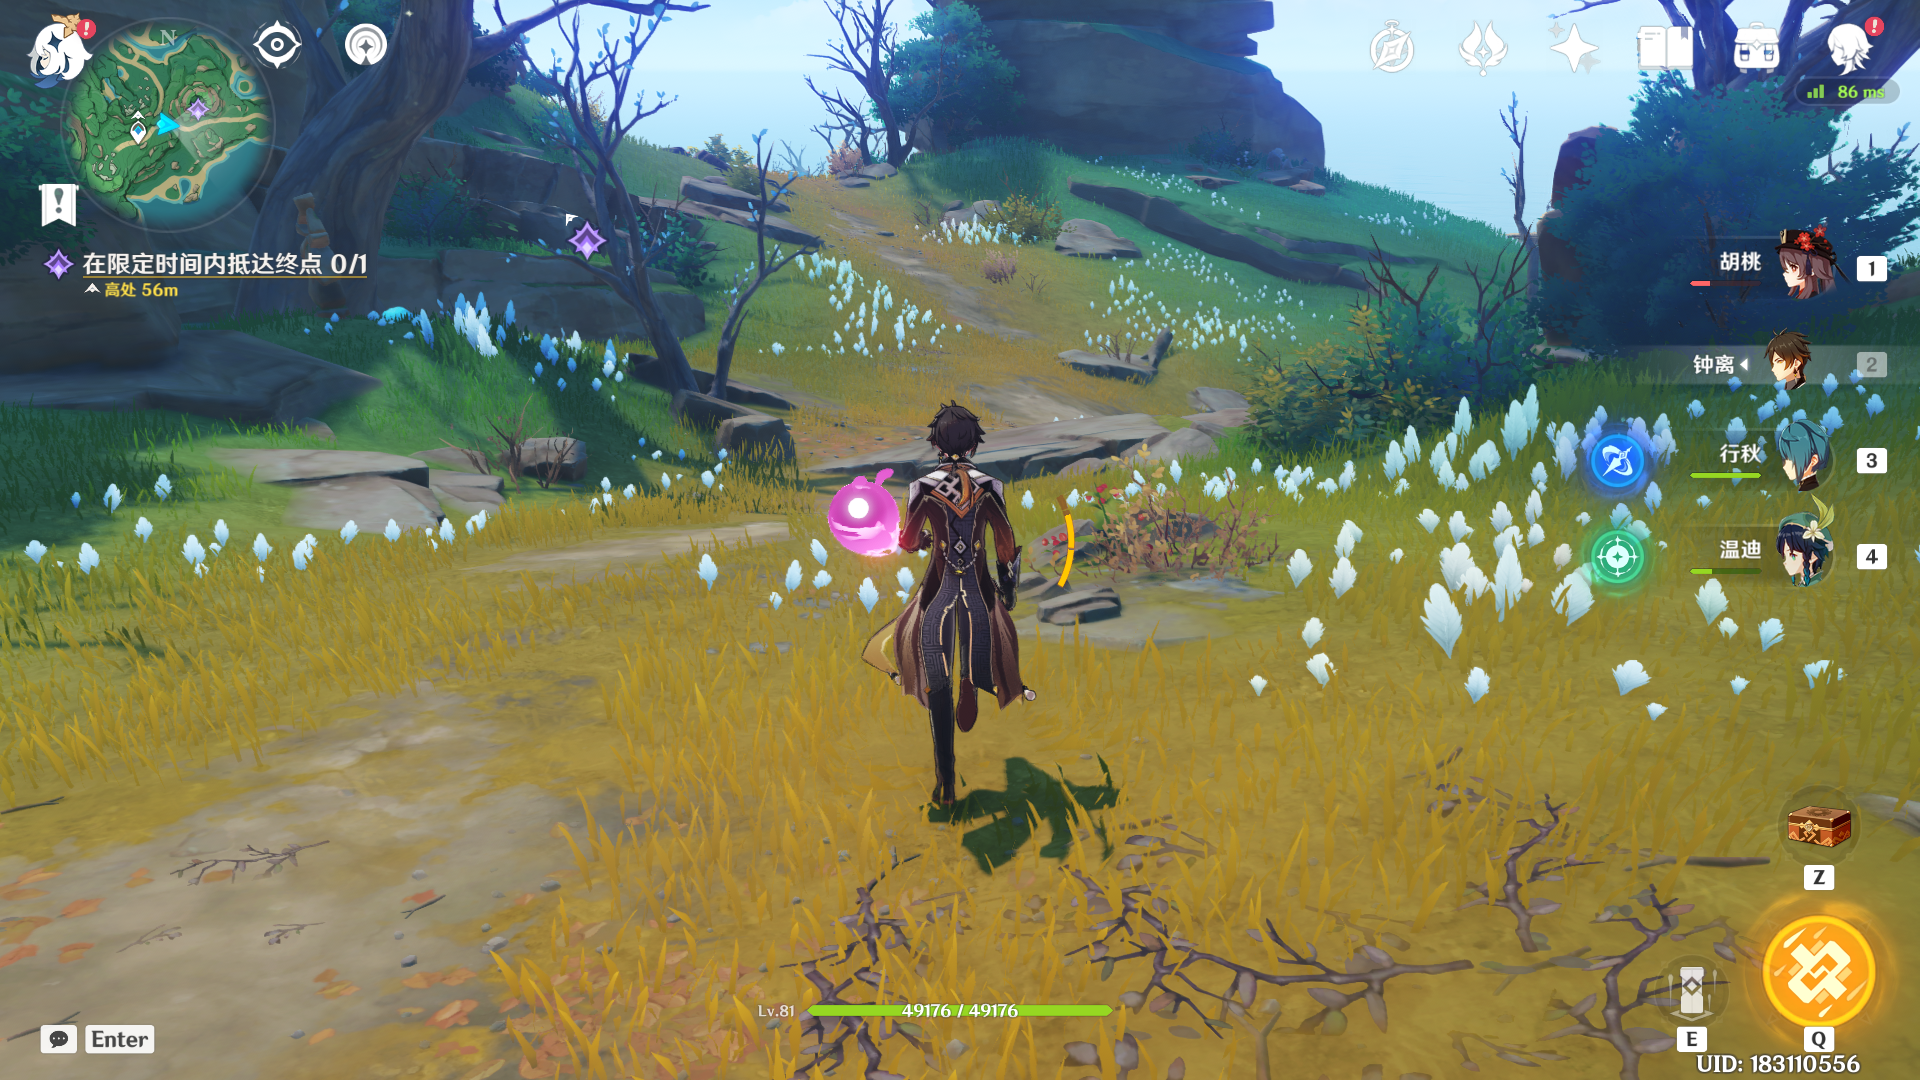character: (822, 359, 1058, 869)
